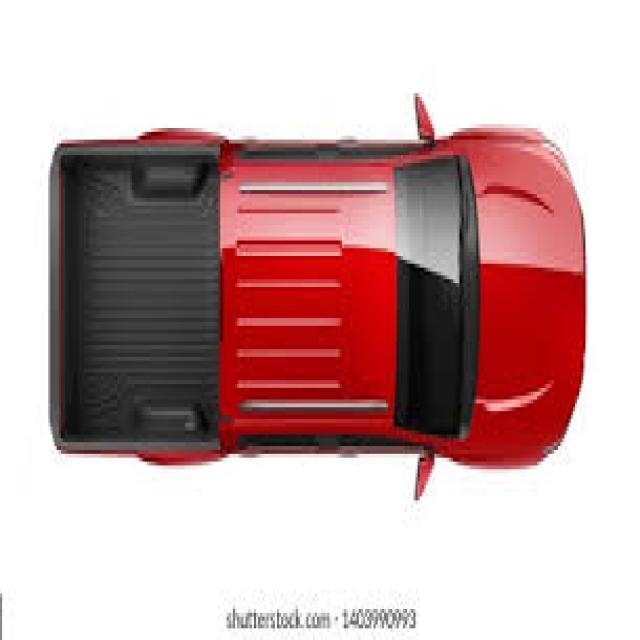truck: (52, 125, 584, 480)
